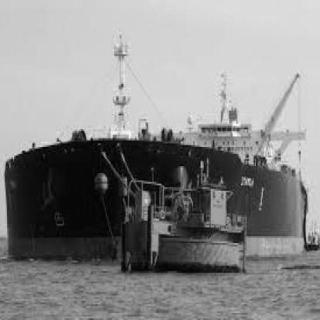other: (97, 144, 257, 274)
